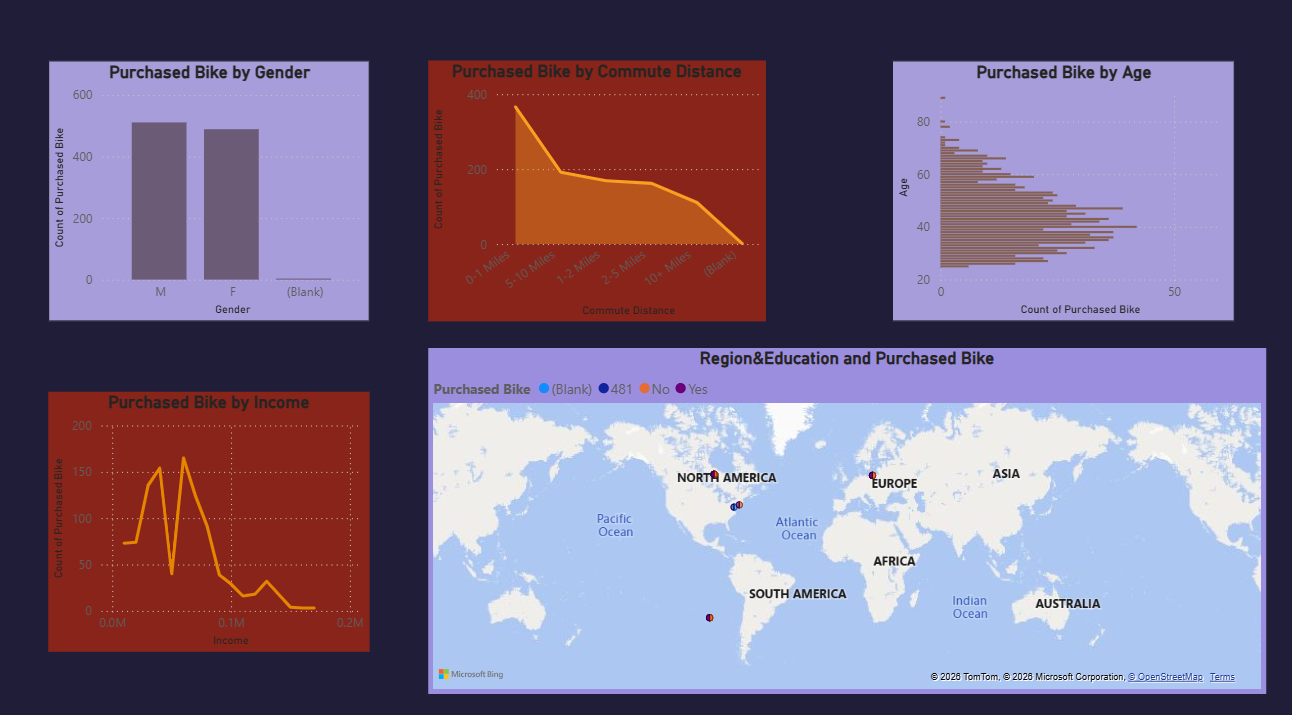

The page's visual inventory and layout, read from the dashboard file:
{"tool":"powerbi","page":{"name":"Page 1","canvas":[1280,720],"ordinal":0},"visuals":[{"type":"clusteredColumnChart","title":"Purchased Bike by Gender","fields":{"Category":["Table1.Gender"],"Y":["CountNonNull(Table1.Purchased Bike)"]},"box":[50.1,66,314.3,255.6],"z":0},{"type":"clusteredBarChart","title":"Purchased Bike by Age","fields":{"Category":["Table1.Age"],"Y":["CountNonNull(Table1.Purchased Bike)"]},"box":[875.5,66,335.1,255.6],"z":1},{"type":"lineChart","title":"Purchased Bike by Income","fields":{"Category":["Table1.Income"],"Y":["CountNonNull(Table1.Purchased Bike)"]},"box":[50.1,390.1,314.3,254.3],"z":2},{"type":"stackedAreaChart","title":"Purchased Bike by Commute Distance","fields":{"Category":["Table1.Commute Distance"],"Y":["CountNonNull(Table1.Purchased Bike)"]},"box":[421.9,66,330.2,255.6],"z":3},{"type":"map","fields":{"Category":["Table1.Region&Education"],"Series":["Table1.Purchased Bike"]},"box":[421.9,347.3,819.3,338.7],"z":4}]}

Visuals, with their boxes in screenshot pixels (x1, y1, x2, y2), scaled from the page's 1280x720 canvas onto the 1292x715 screenshot:
"Purchased Bike by Gender" clusteredColumnChart: (left=51, top=66, right=368, bottom=319)
"Purchased Bike by Age" clusteredBarChart: (left=884, top=66, right=1222, bottom=319)
"Purchased Bike by Income" lineChart: (left=51, top=387, right=368, bottom=640)
"Purchased Bike by Commute Distance" stackedAreaChart: (left=426, top=66, right=759, bottom=319)
map - Table1.Region&Education x Table1.Purchased Bike: (left=426, top=345, right=1253, bottom=681)
